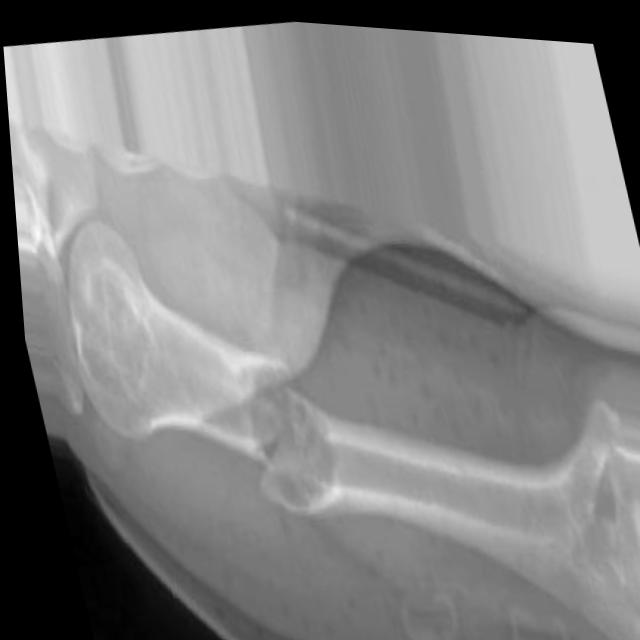fracture: (202, 316, 359, 535)
